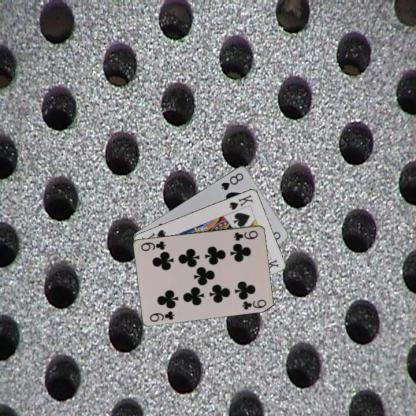8s: (218, 170, 244, 192)
9c: (147, 308, 176, 324), (231, 228, 260, 242)
Ks: (226, 192, 254, 211)
